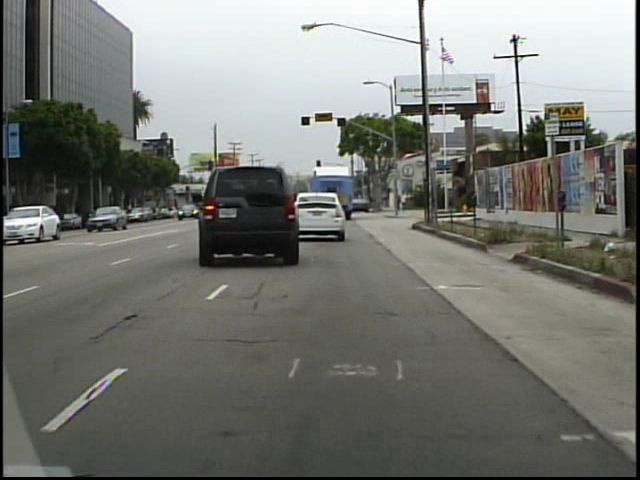person: (401, 188, 410, 214), (394, 189, 403, 214)
